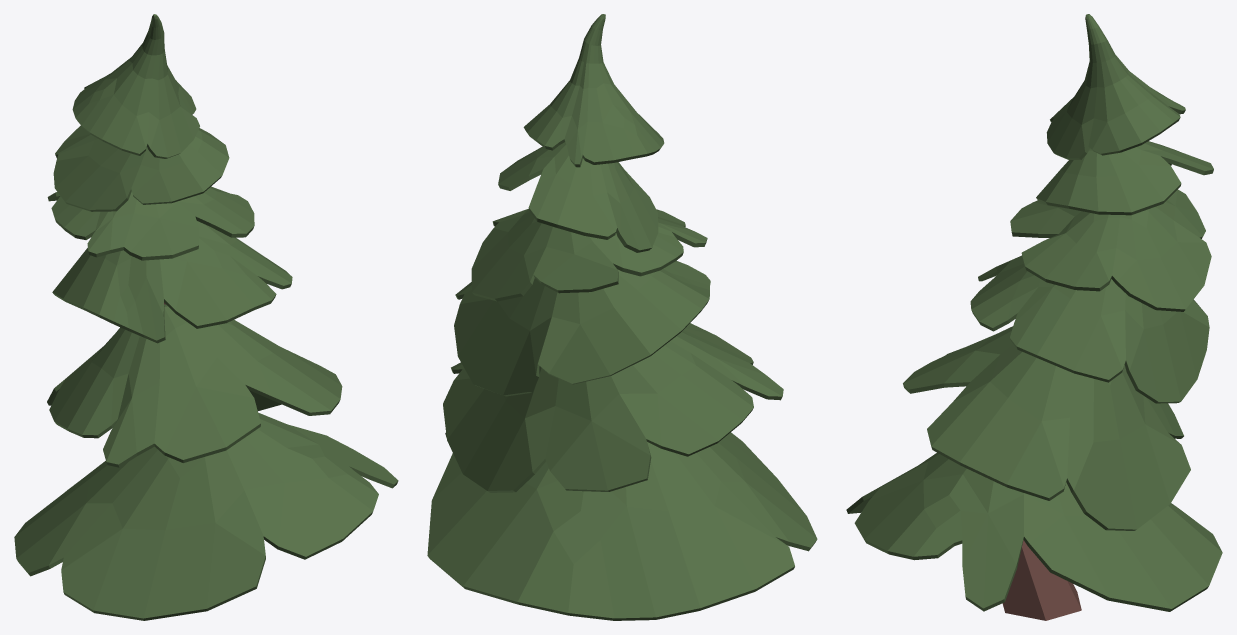
The model's file is pinetree_3.glb.
The picture shows the model from 3 angles, left to right: view 1: azimuth 30°, elevation 25°; view 2: azimuth 150°, elevation 25°; view 3: azimuth 270°, elevation 25°; orthographic projection. The views are drawn at different scales.
Parts seen in each view (by area): view 1: PineTree_3; view 2: PineTree_3; view 3: PineTree_3.
Part boxes in pixels (x1,y1,x2,y2): PineTree_3: (14, 14, 398, 620); PineTree_3: (427, 14, 817, 620); PineTree_3: (846, 14, 1222, 620).
Size of the model in its own units: 5.19 by 7.93 by 4.69.
